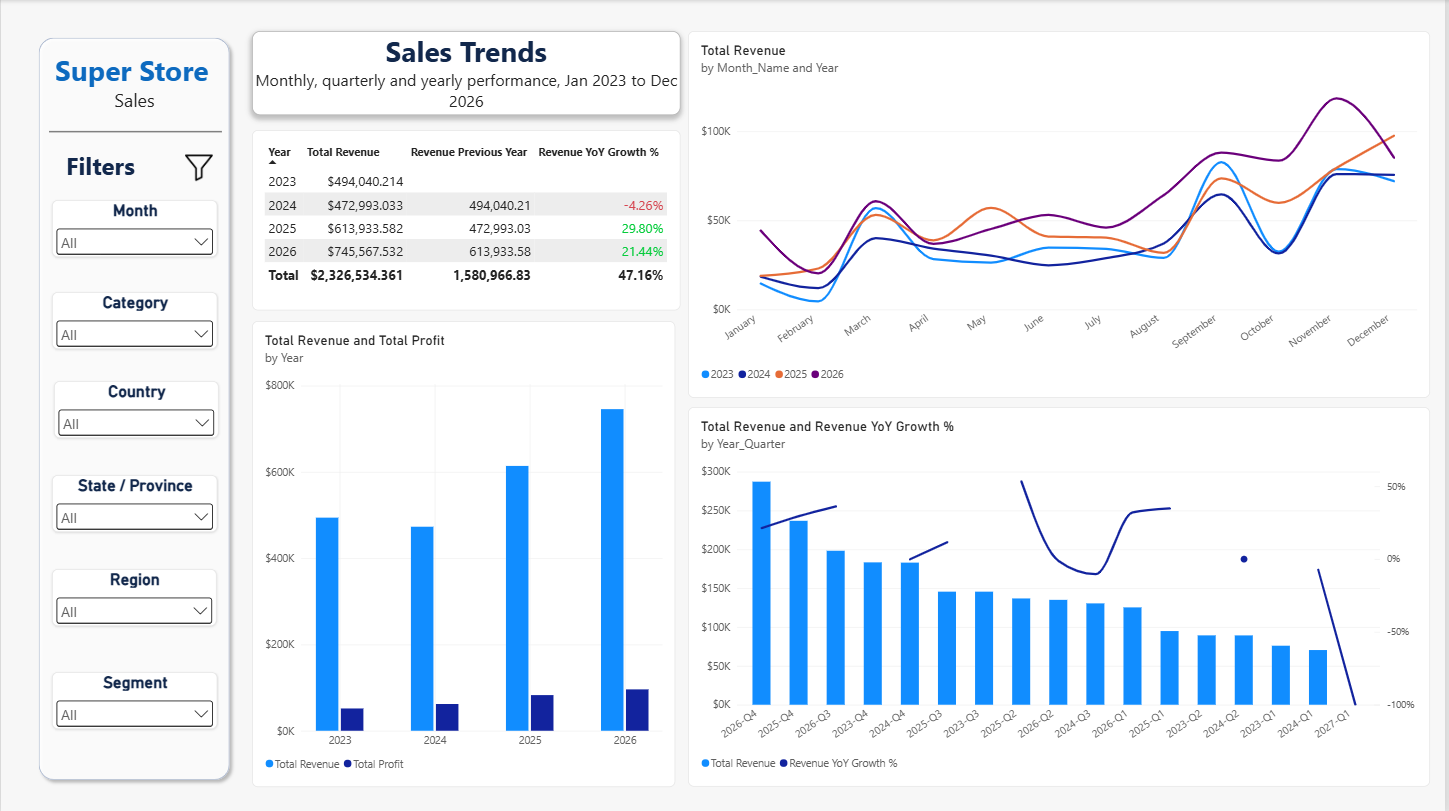

What the dashboard file says about the page in this screenshot:
{"tool":"powerbi","page":{"name":"Sales Trends","canvas":[1920,1080],"ordinal":1},"visuals":[{"type":"lineChart","fields":{"Category":["dim_Date.Month_Name"],"Series":["dim_Date.Year"],"Y":["fact_Sales.Total Revenue"]},"box":[913.3,41.7,986.7,488.3],"z":1000},{"type":"lineClusteredColumnComboChart","fields":{"Category":["dim_Date.Year_Quarter"],"Y":["fact_Sales.Total Revenue"],"Y2":["fact_Sales.Revenue YoY Growth %"]},"box":[913.3,541.7,986.7,505],"z":2000},{"type":"clusteredColumnChart","fields":{"Category":["dim_Date.Year"],"Y":["fact_Sales.Total Revenue","fact_Sales.Total Profit"]},"box":[333.3,426.7,563.3,620],"z":3000},{"type":"pivotTable","fields":{"Rows":["dim_Date.Year"],"Values":["fact_Sales.Total Revenue","fact_Sales.Revenue Previous Year","fact_Sales.Revenue YoY Growth %"]},"box":[333.3,173.3,570,240],"z":4000},{"type":"shape","box":[41.7,41.7,271.7,1005],"z":5000},{"type":"textbox","box":[68.3,198.3,128.6,52.9],"z":6000},{"type":"textbox","box":[51.7,68.3,251.4,85.7],"z":7000},{"type":"shape","box":[63.3,153.3,230,44.3],"z":8000},{"type":"image","box":[245,198.3,37.1,50],"z":9000},{"type":"slicer","title":"Month","fields":{"Values":["dim_Date.Month_Name"]},"box":[68.3,266.7,220,75.7],"z":10000},{"type":"slicer","title":"Category","fields":{"Values":["dim_Product.Category"]},"box":[68.3,388.3,220,75.7],"z":11000},{"type":"slicer","title":"Country","fields":{"Values":["dim_Geography.Country_Region"]},"box":[70,506.7,218.6,75.7],"z":12000},{"type":"slicer","title":"State / Province","fields":{"Values":["dim_Geography.State_Province"]},"box":[68.3,631.7,220,75.7],"z":13000},{"type":"slicer","title":"Region","fields":{"Values":["dim_Geography.Region"]},"box":[68.3,756.7,218.6,75.7],"z":14000},{"type":"slicer","title":"Segment","fields":{"Values":["dim_Customer.Segment"]},"box":[68.3,893.3,220,75.7],"z":15000},{"type":"textbox","box":[333.3,41.7,570,111.7],"z":16000}]}

Visuals, with their boxes in screenshot pixels (x1, y1, x2, y2), scaled from the page's 1920x1080 canvas onto the 1449x811 screenshot:
lineChart - dim_Date.Month_Name x dim_Date.Year: bbox(689, 31, 1434, 398)
lineClusteredColumnComboChart - dim_Date.Year_Quarter x fact_Sales.Total Revenue: bbox(689, 407, 1434, 786)
clusteredColumnChart - dim_Date.Year x fact_Sales.Total Revenue: bbox(252, 320, 677, 786)
pivotTable - dim_Date.Year x fact_Sales.Total Revenue: bbox(252, 130, 682, 310)
shape: bbox(31, 31, 237, 786)
textbox: bbox(52, 149, 149, 189)
textbox: bbox(39, 51, 229, 116)
shape: bbox(48, 115, 221, 148)
image: bbox(185, 149, 213, 186)
"Month" slicer: bbox(52, 200, 218, 257)
"Category" slicer: bbox(52, 292, 218, 348)
"Country" slicer: bbox(53, 380, 218, 437)
"State / Province" slicer: bbox(52, 474, 218, 531)
"Region" slicer: bbox(52, 568, 217, 625)
"Segment" slicer: bbox(52, 671, 218, 728)
textbox: bbox(252, 31, 682, 115)
